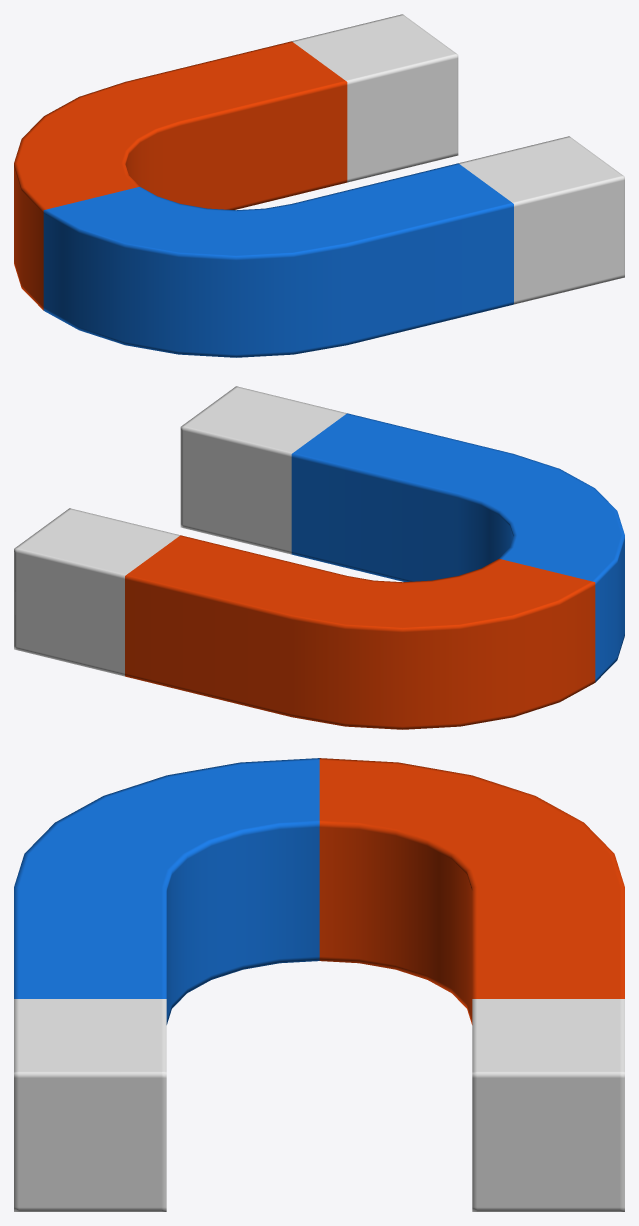
Rendered from magnet.fbx.
3 views of the same model, one above another, from view 1: azimuth 30°, elevation 25°; view 2: azimuth 150°, elevation 25°; view 3: azimuth 270°, elevation 25° (orthographic). The views are drawn at different scales.
Parts seen in each view (by area): view 1: Cylinder; view 2: Cylinder; view 3: Cylinder.
Boxes of the visible parts, x1,y1,x2,y2 form: Cylinder: (14, 14, 624, 357); Cylinder: (14, 386, 624, 729); Cylinder: (14, 758, 624, 1211).
Size of the model in its own units: 122 by 25 by 100.
